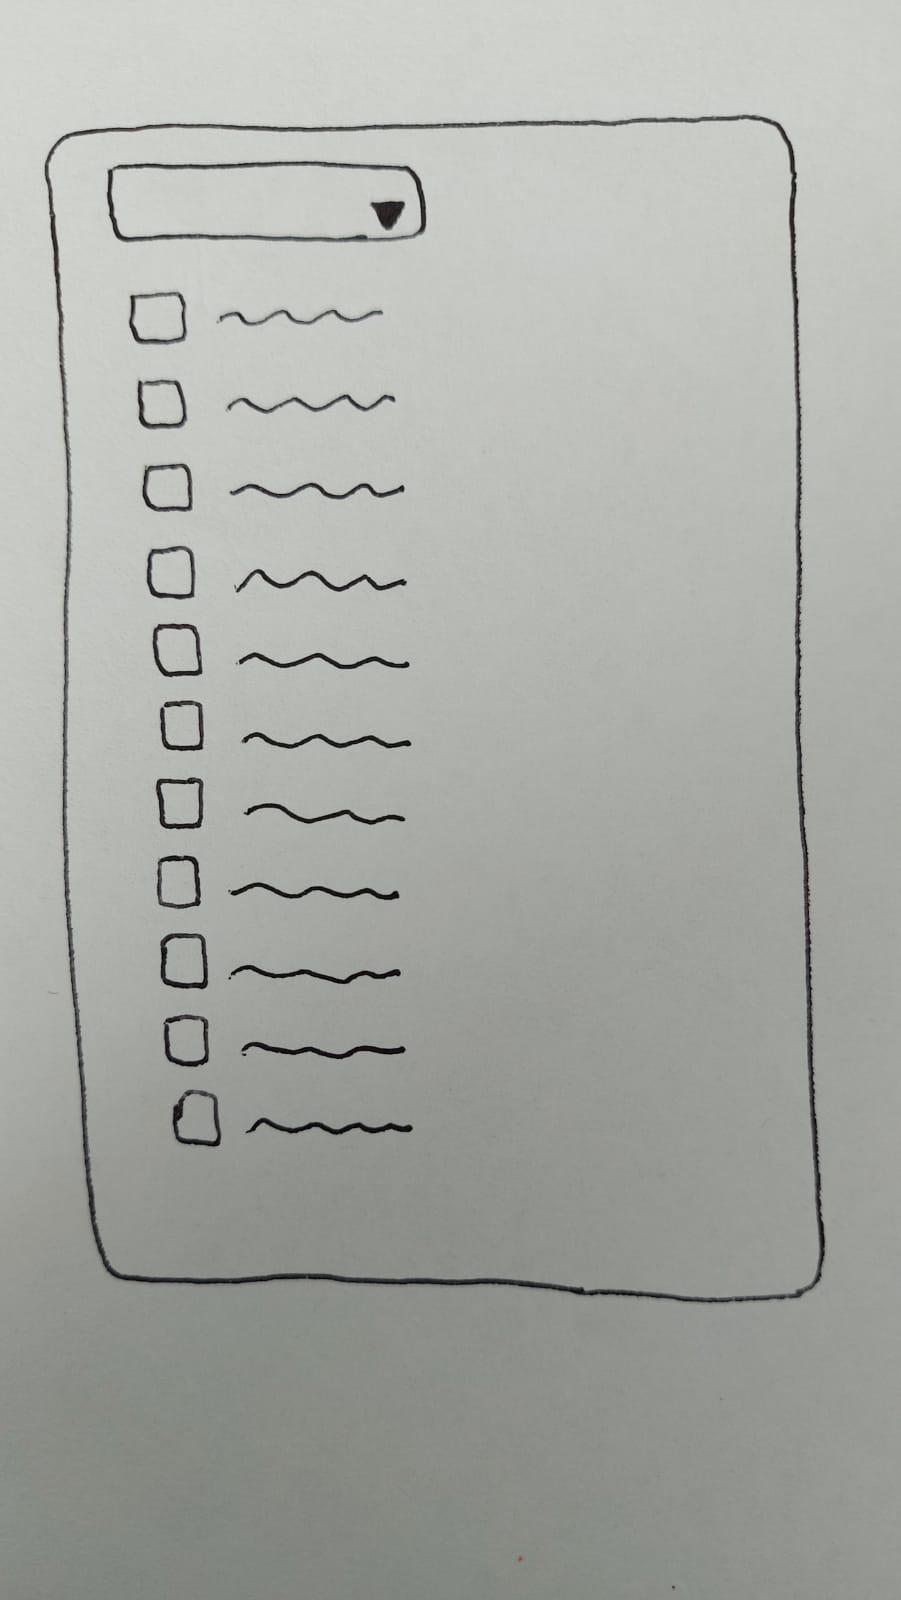CheckBox: (171, 1088, 414, 1147), (147, 544, 406, 599), (161, 933, 401, 990), (151, 624, 409, 677), (127, 292, 384, 344), (155, 777, 405, 830), (162, 1014, 406, 1068), (142, 463, 405, 513), (158, 855, 399, 909), (159, 701, 410, 752), (137, 380, 397, 429)
ListPicker: (104, 159, 426, 243)
Screen: (42, 114, 826, 1303)
